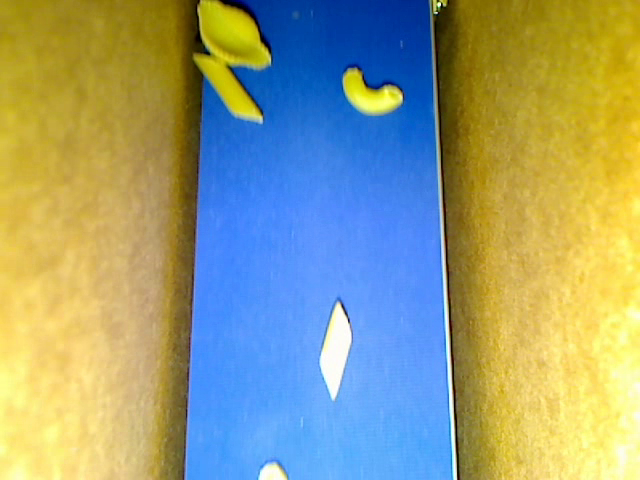elbow: (342, 67, 403, 116)
penne: (192, 52, 263, 123), (319, 296, 352, 401)
shell: (197, 1, 272, 72)
